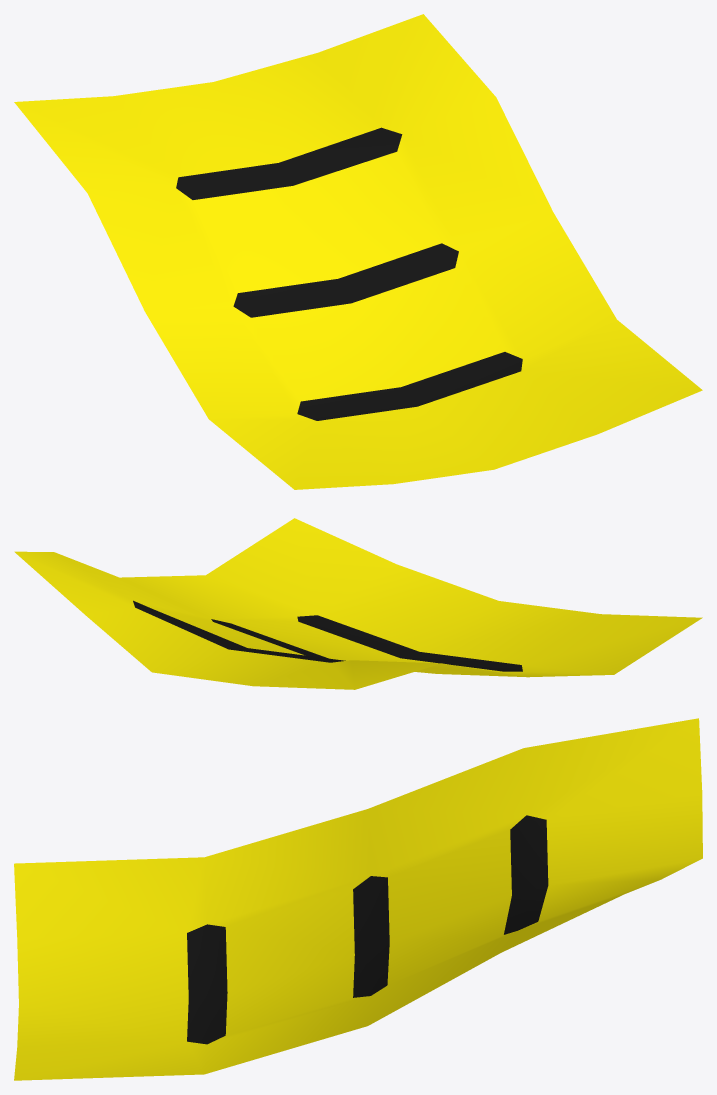
The model's file is Notes_01.fbx.
3 renders of one model, top to bottom at view 1: azimuth 30°, elevation 25°; view 2: azimuth 150°, elevation 25°; view 3: azimuth 270°, elevation 25°, orthographic. The views are drawn at different scales.
Parts seen in each view (by area): view 1: Note.001; view 2: Note.001; view 3: Note.001.
Part boxes in pixels (box(x1,y1,x2,y2)): Note.001: box(14, 14, 702, 489); Note.001: box(14, 518, 702, 689); Note.001: box(14, 718, 702, 1080).
Bounding box in the file's own units: 57.91 × 26.29 × 74.58.
